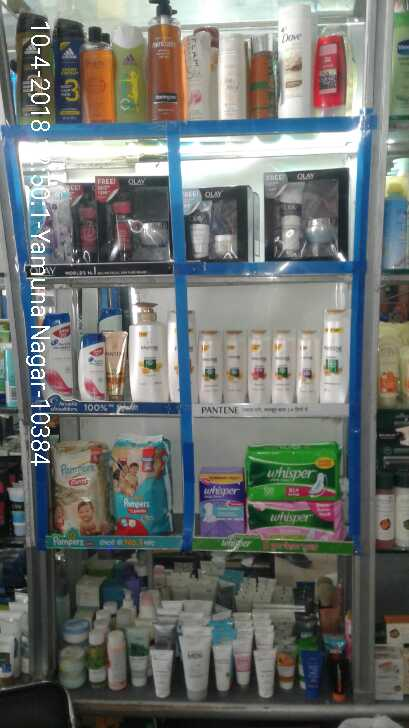venus: (36, 185, 70, 267)
